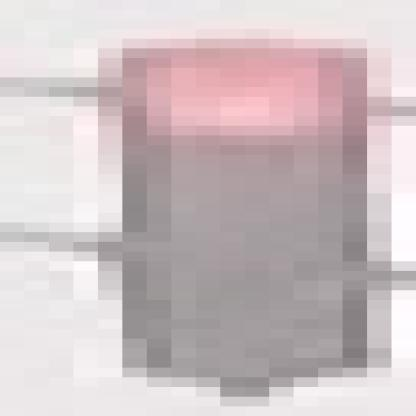Red Light: (128, 49, 370, 379)
